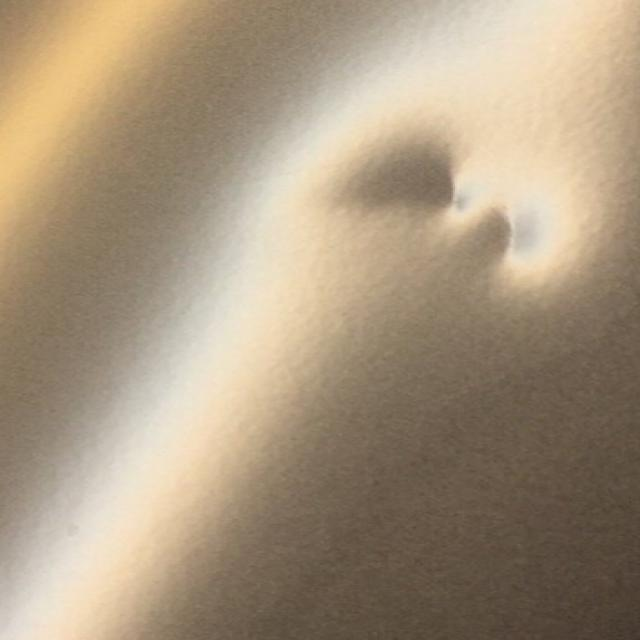dents: (342, 119, 477, 222), (470, 186, 545, 286)
